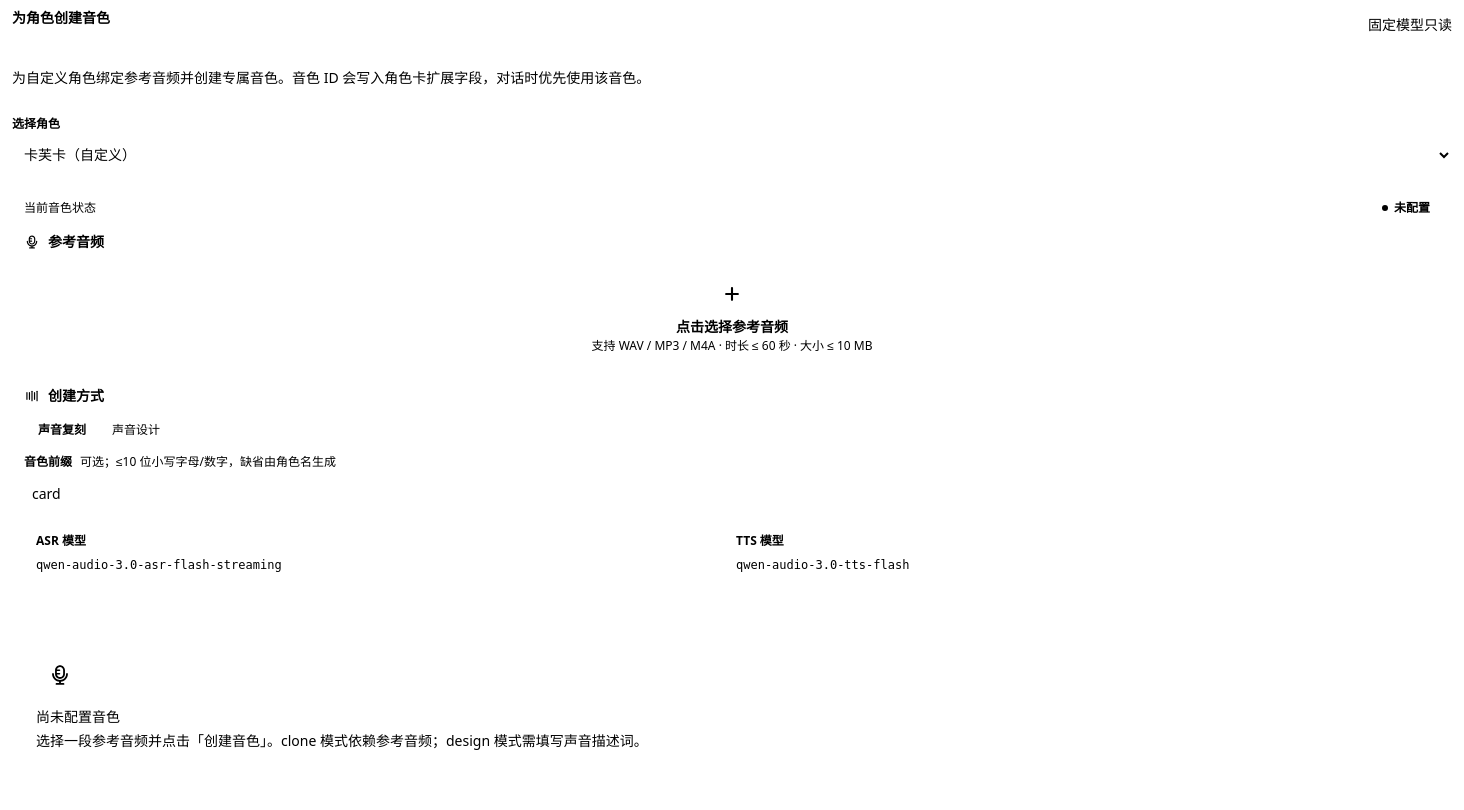
CharacterVoiceSection › design 模式缺少声音描述词时禁用创建按钮
Expected: the field with test id "prefix-input" holds "card", [24, 476, 1440, 510]
Click the button with test id "create-mode-design" at (136, 429), box [100, 416, 172, 442]
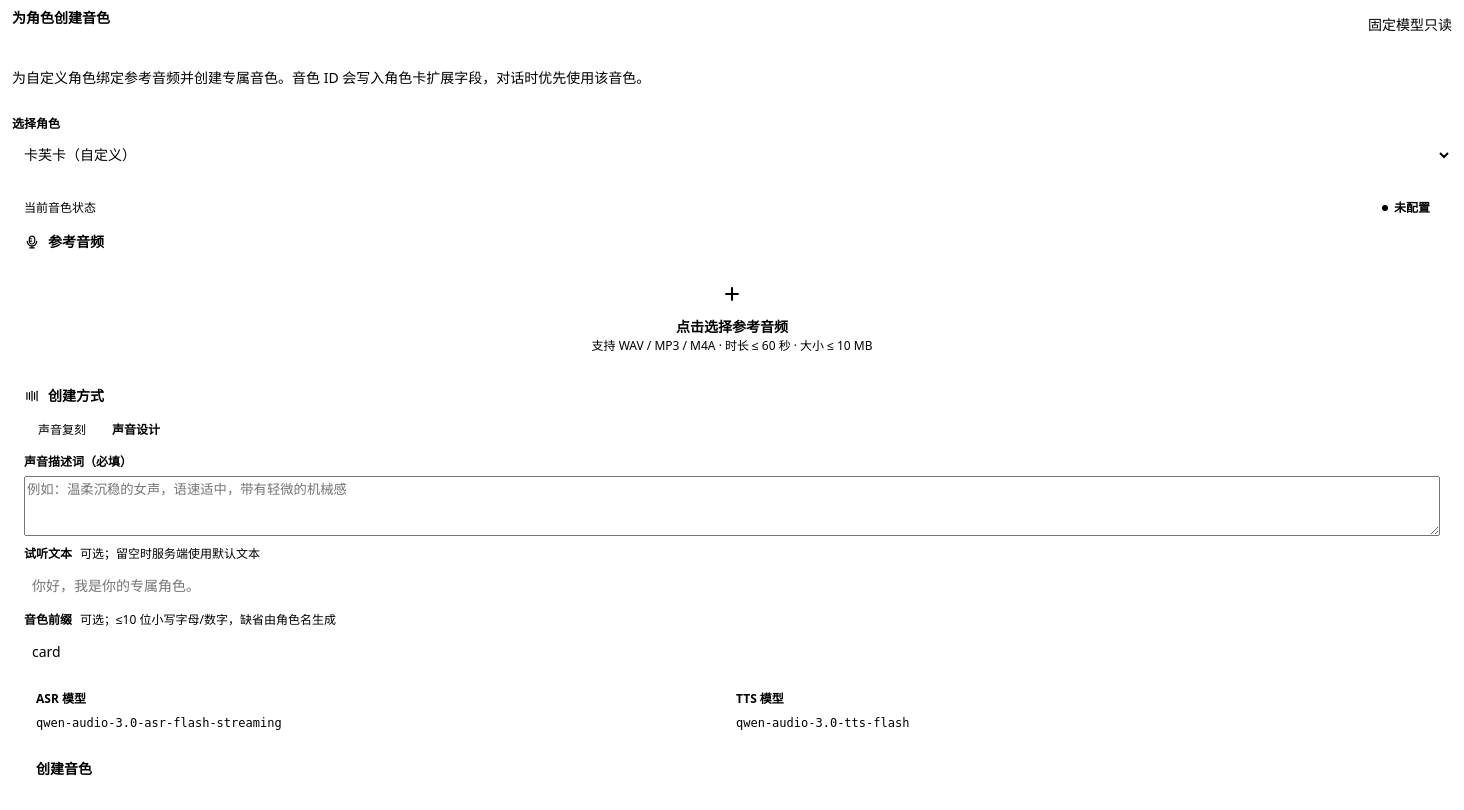
Expected: the button with test id "create-voice-btn" is disabled, [24, 753, 104, 785]
